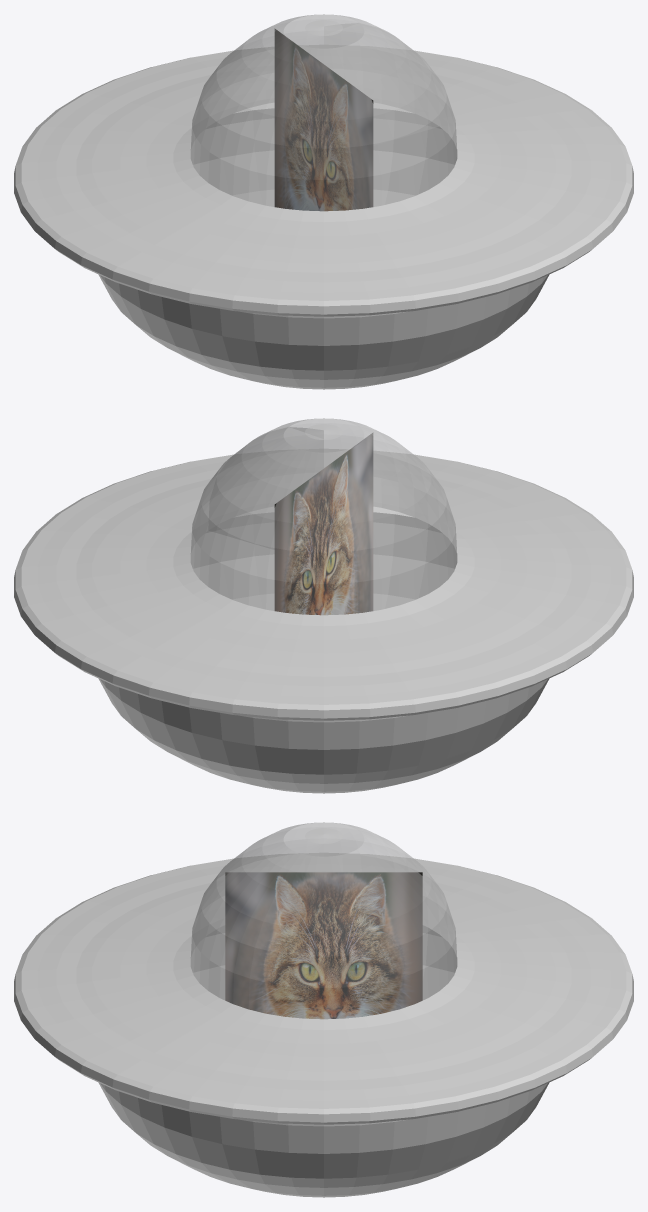
Rendered from spaceship.fbx.
The picture shows the model from 3 angles, top to bottom: view 1: azimuth 30°, elevation 25°; view 2: azimuth 150°, elevation 25°; view 3: azimuth 270°, elevation 25°; orthographic projection.
Visible parts, largest first — view 1: Plane, Plane.001, cat-300572_1920; view 2: Plane, Plane.001, cat-300572_1920; view 3: Plane, Plane.001, cat-300572_1920.
Boxes of the visible parts, x1,y1,x2,y2 form: Plane: (14,45,633,389); Plane.001: (190,14,457,210); cat-300572_1920: (274,29,373,211); Plane: (14,449,633,793); Plane.001: (190,418,457,614); cat-300572_1920: (274,433,373,615); Plane: (14,853,633,1197); Plane.001: (190,822,457,1018); cat-300572_1920: (225,872,422,1019).
Bounding box in the file's own units: 987 × 570 × 984.
